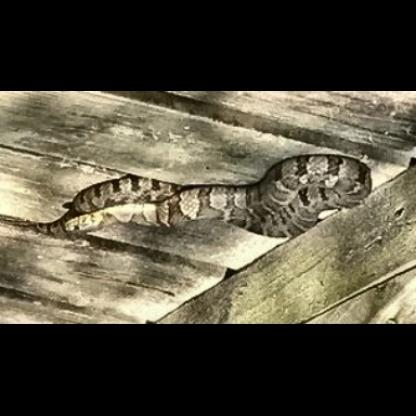Snake: (8, 150, 409, 242)
